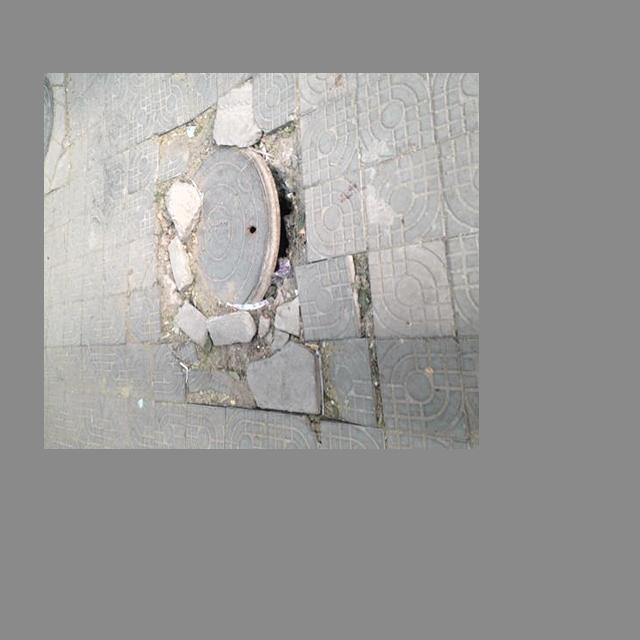circle: (152, 121, 323, 417)
